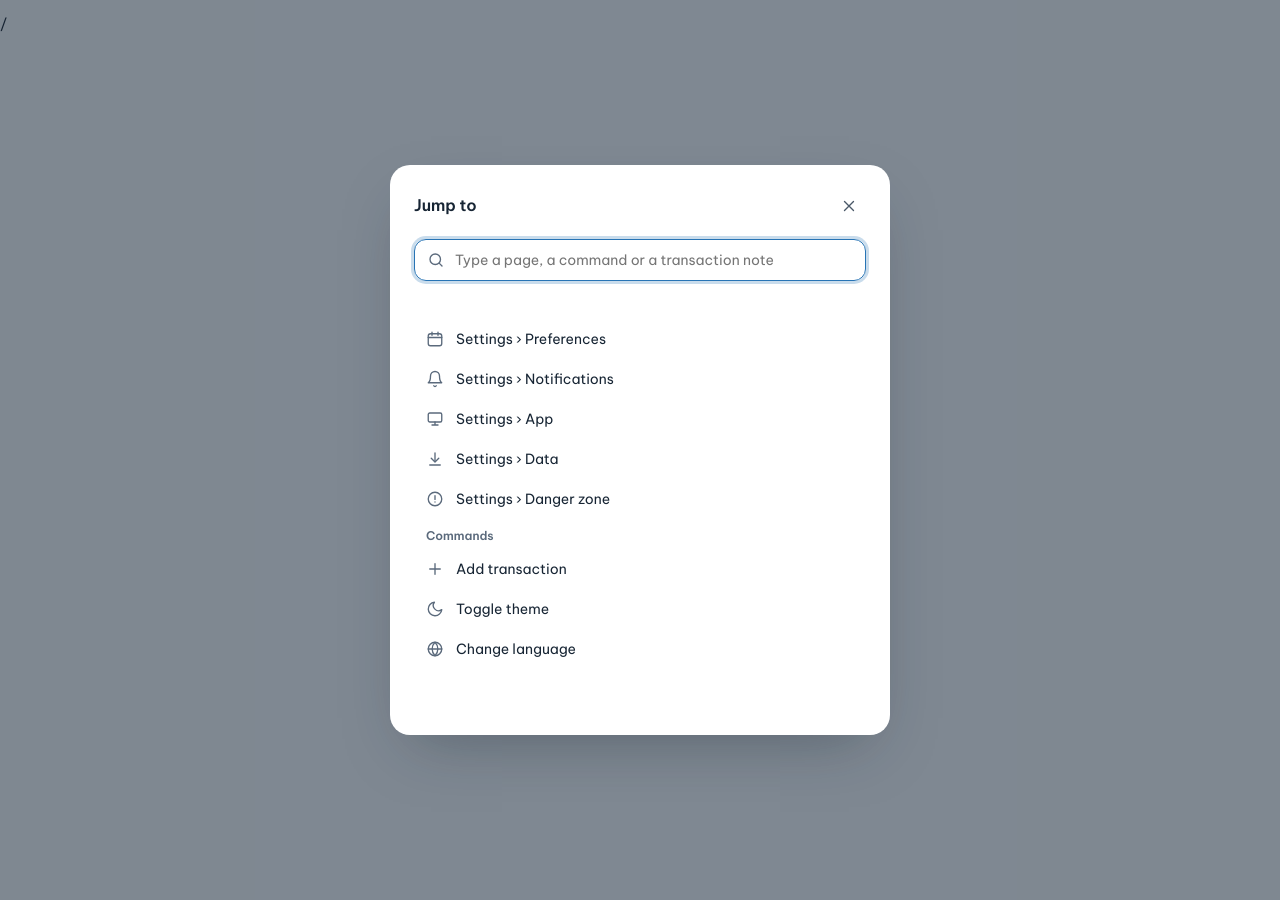
Test: CommandPalette › Change language turns the list into the languages, Escape goes back
(page scrolled)
Click the option "Change language".
click(501, 649)  # box [426,640,576,658]
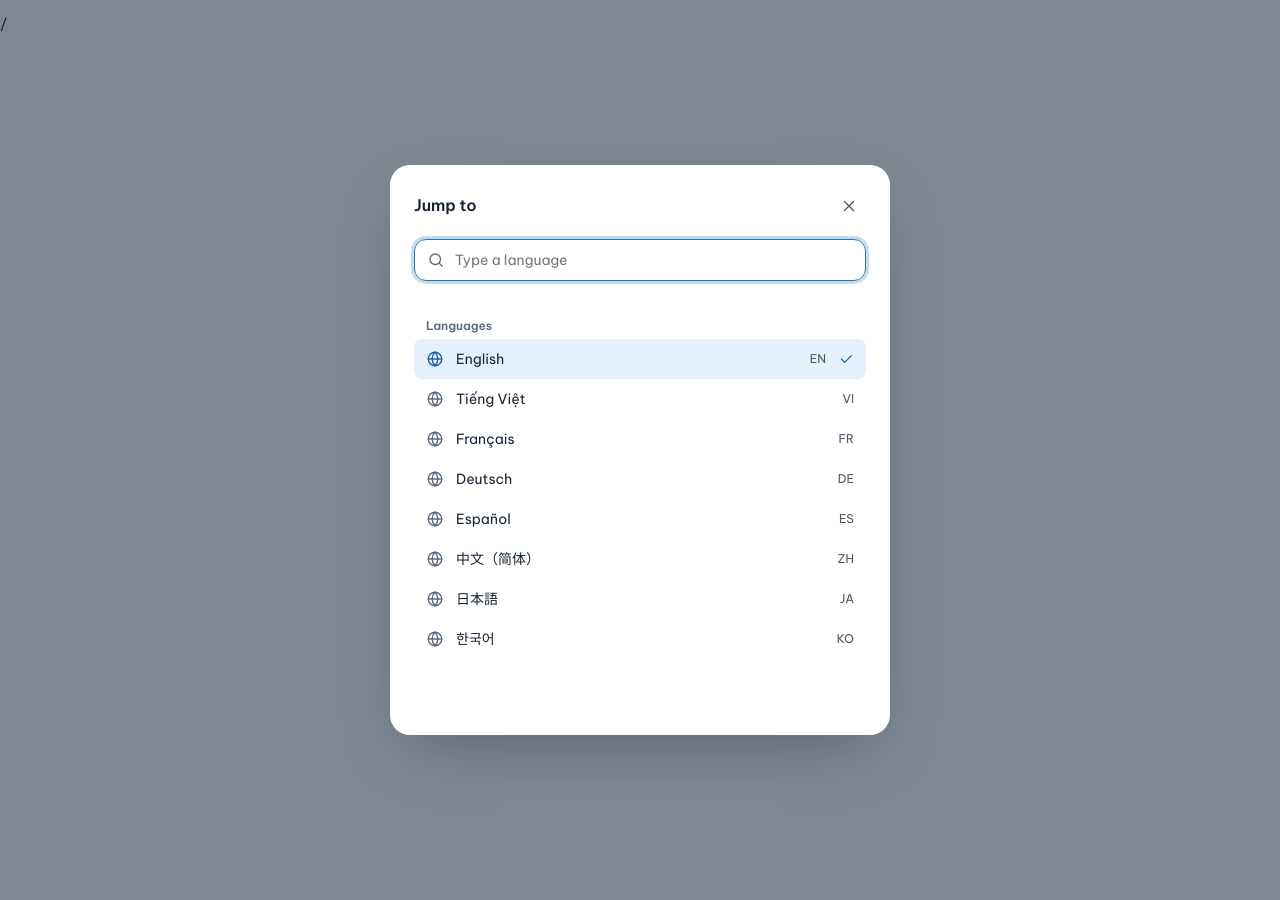
Expected: the option "Dashboard" is not shown
Result: the number of options is 8
Press Escape
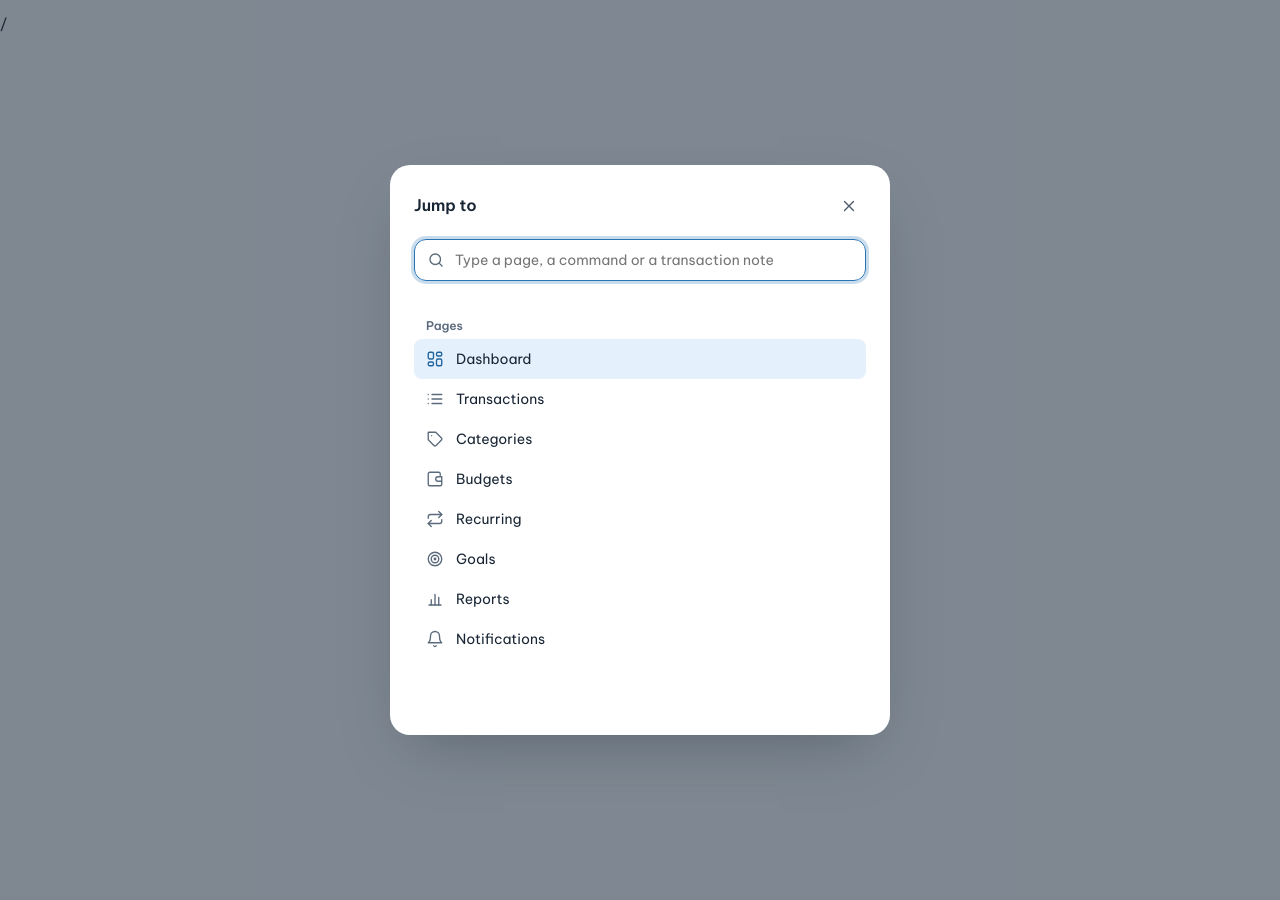
Result: the option "Dashboard" is shown at [414,339,866,379]
